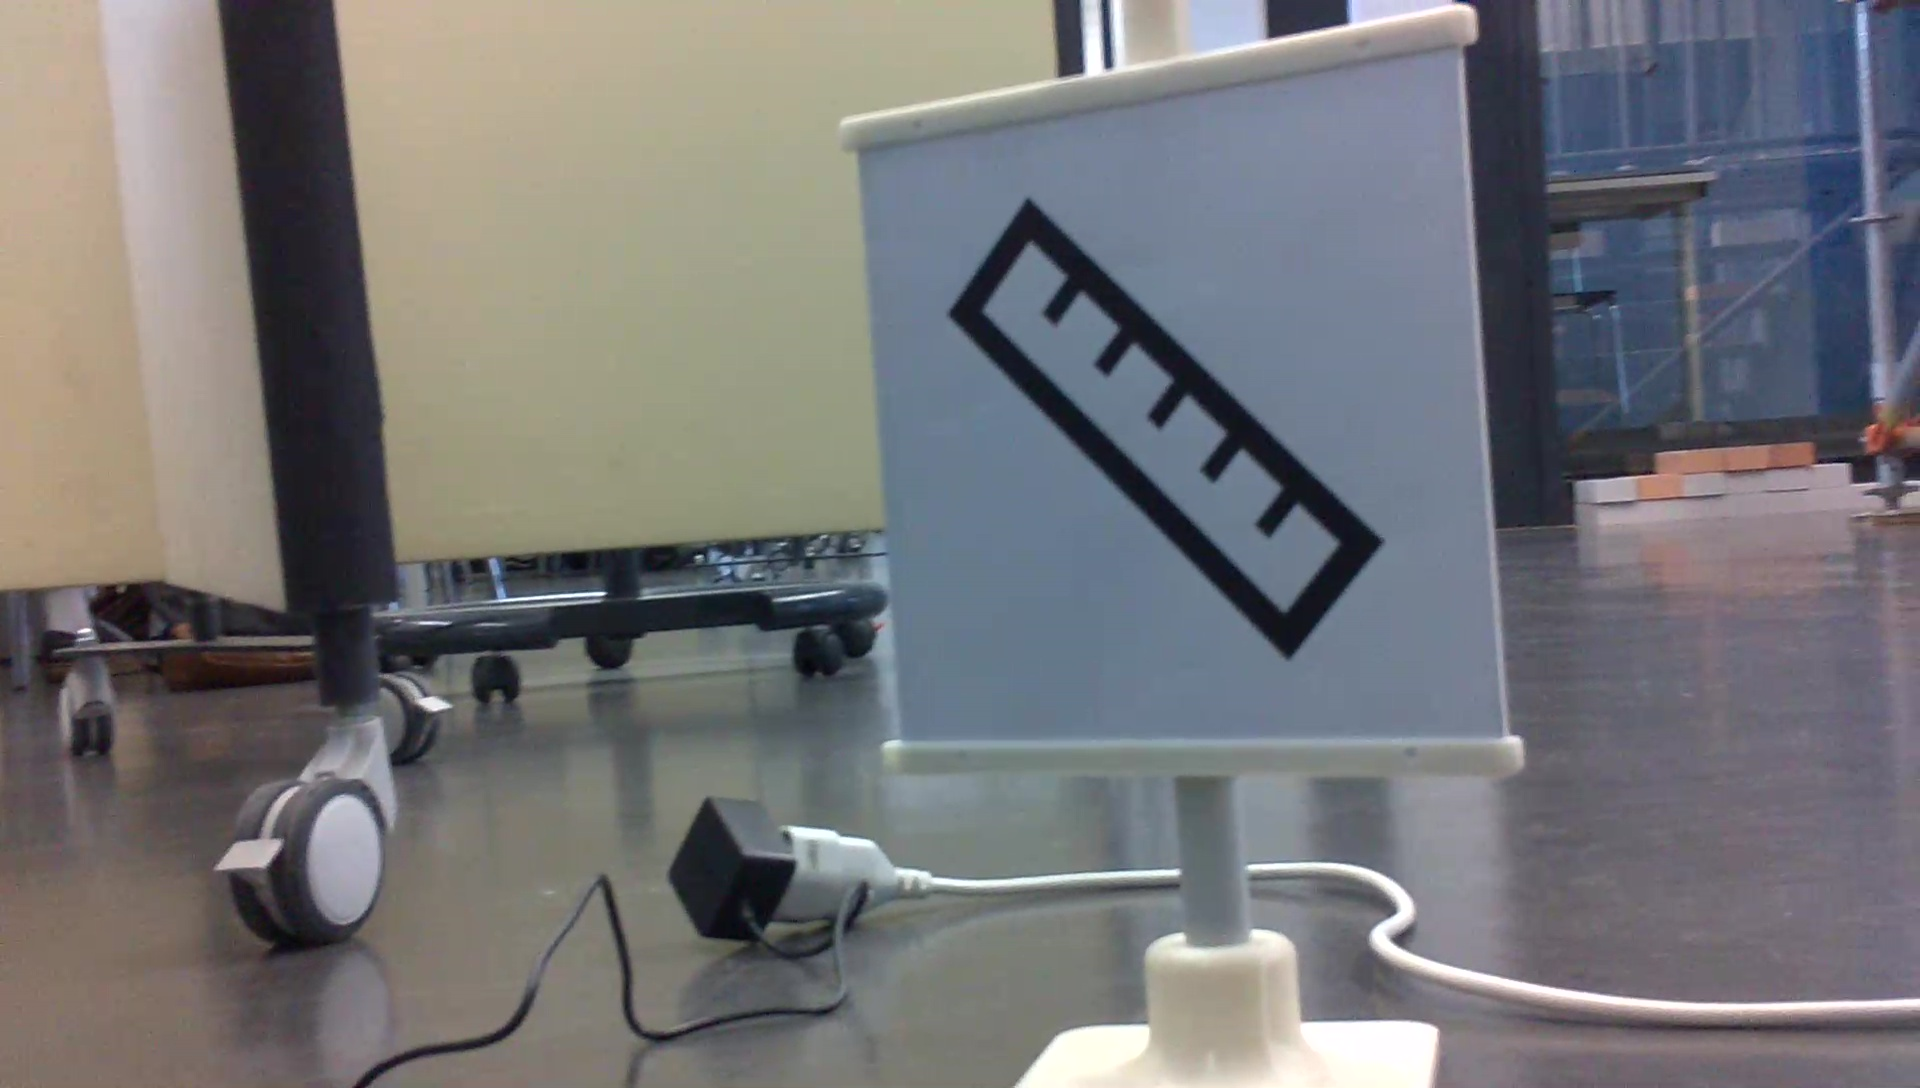ruler: (943, 185, 1383, 661)
